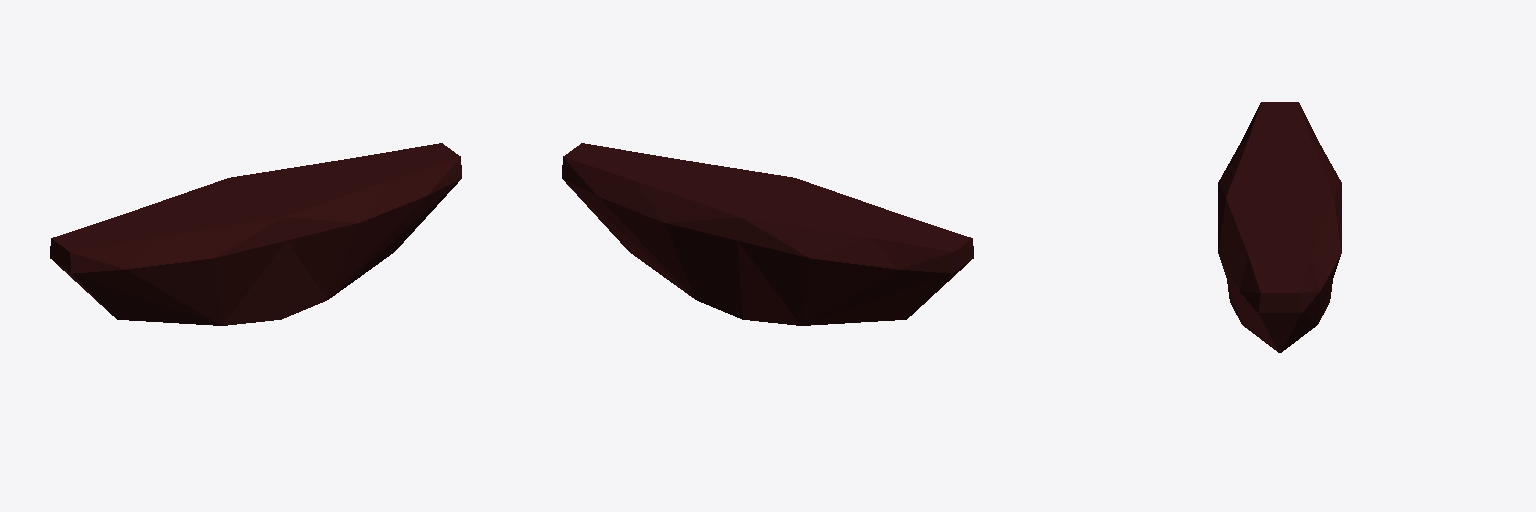
File: stagebase.obj
3 renders of one model, left to right at view 1: azimuth 30°, elevation 25°; view 2: azimuth 150°, elevation 25°; view 3: azimuth 270°, elevation 25°, orthographic.
Parts seen in each view (by area): view 1: StageBase_Cube; view 2: StageBase_Cube; view 3: StageBase_Cube.
Part boxes in pixels (bbox=[...]): StageBase_Cube: bbox=[50, 143, 461, 325]; StageBase_Cube: bbox=[562, 143, 973, 325]; StageBase_Cube: bbox=[1218, 102, 1341, 352].
Bounding box in the file's own units: 2 × 0.571 × 0.5454.